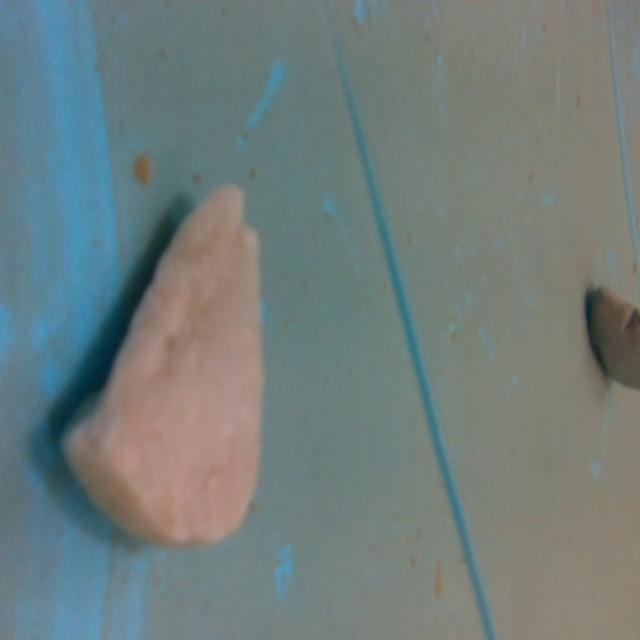rock: (55, 179, 275, 557), (583, 280, 640, 392)
